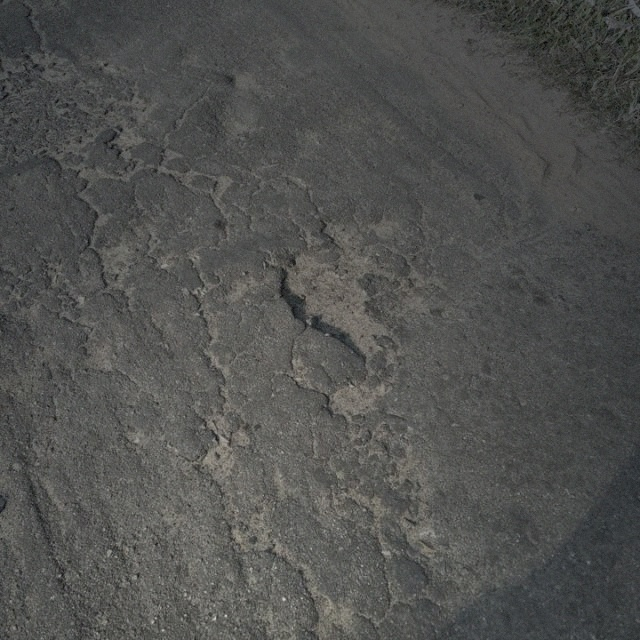pothole: (273, 250, 393, 358), (323, 378, 383, 418)
